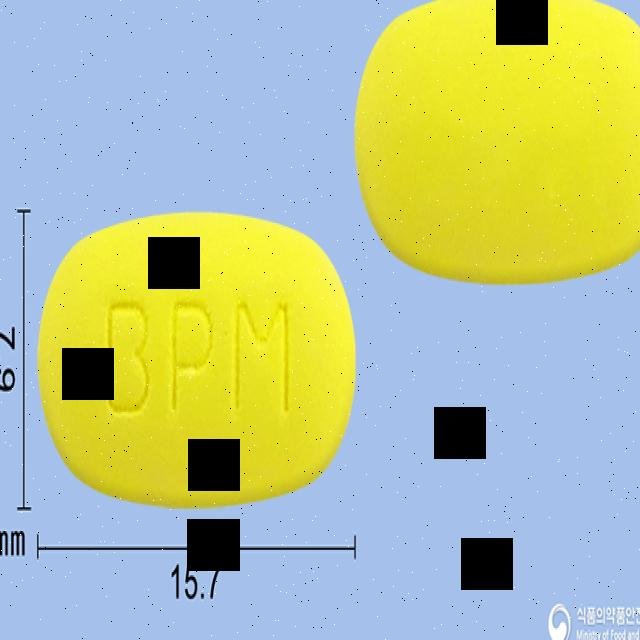Claycin: (32, 206, 364, 517)
